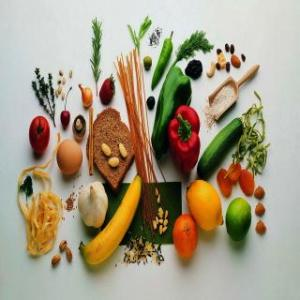bell_pepper: (170, 109, 204, 178)
egg: (54, 138, 84, 178)
garlic: (58, 68, 62, 76), (62, 76, 66, 84), (58, 86, 62, 92), (56, 88, 58, 98), (70, 71, 72, 79), (63, 92, 65, 100)
onion: (76, 178, 112, 232), (81, 87, 92, 109)
tomato: (28, 114, 50, 157)
zucchini: (196, 114, 246, 184)
